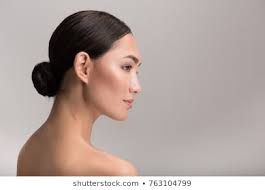asian_female: (44, 1, 154, 126)
